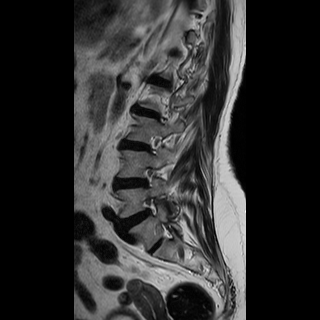LFS0: (135, 193, 162, 225), (134, 160, 161, 192)
